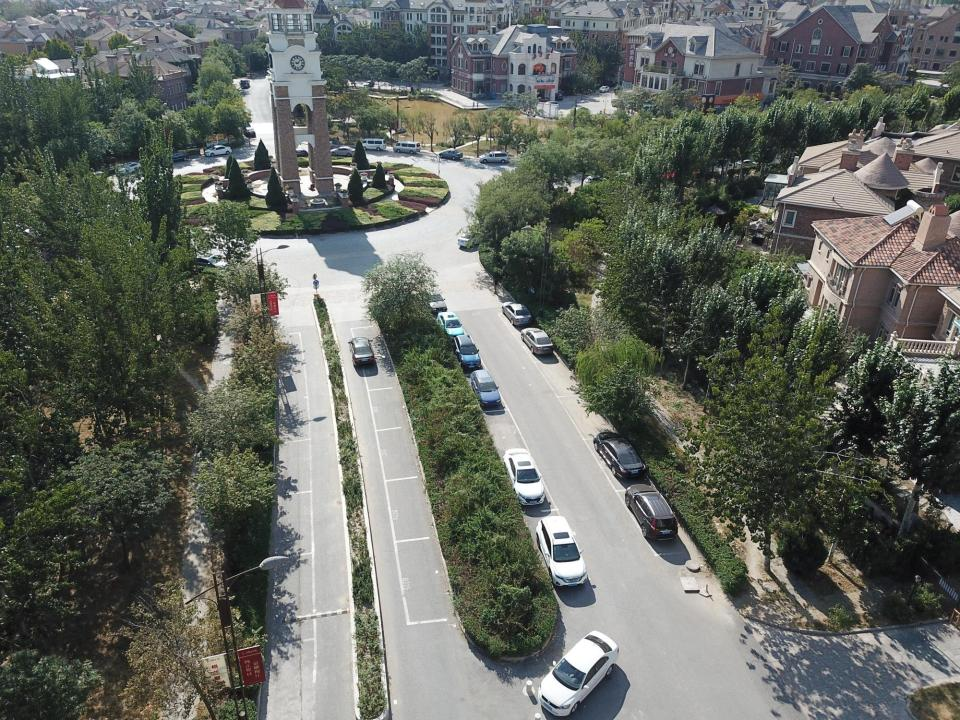car: (537, 631, 618, 716), (536, 516, 587, 586), (625, 485, 678, 540), (592, 432, 646, 478), (502, 448, 544, 505), (471, 369, 501, 406), (453, 334, 481, 369), (521, 328, 554, 354), (347, 337, 375, 366), (437, 312, 464, 341), (501, 302, 532, 326), (420, 288, 448, 313), (458, 231, 486, 248), (478, 151, 508, 164), (114, 162, 140, 175), (204, 145, 232, 156), (584, 175, 608, 187), (163, 152, 189, 163), (438, 149, 463, 160), (330, 146, 356, 156), (84, 171, 107, 182), (289, 148, 308, 157), (570, 106, 588, 115), (540, 101, 558, 109), (243, 127, 256, 136), (241, 121, 251, 129), (363, 80, 374, 86), (599, 86, 609, 92)
truck: (239, 80, 250, 88)
van: (392, 141, 420, 155), (360, 138, 386, 151), (611, 97, 625, 107)
